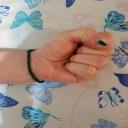Fist: (36, 24, 116, 84)
